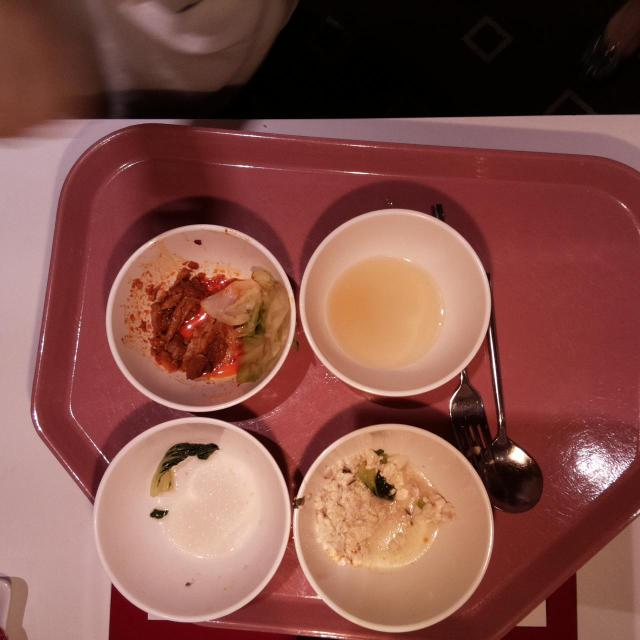Meat: (153, 279, 203, 339)
Vegetable: (200, 278, 284, 387), (149, 441, 218, 497), (356, 463, 398, 504)
